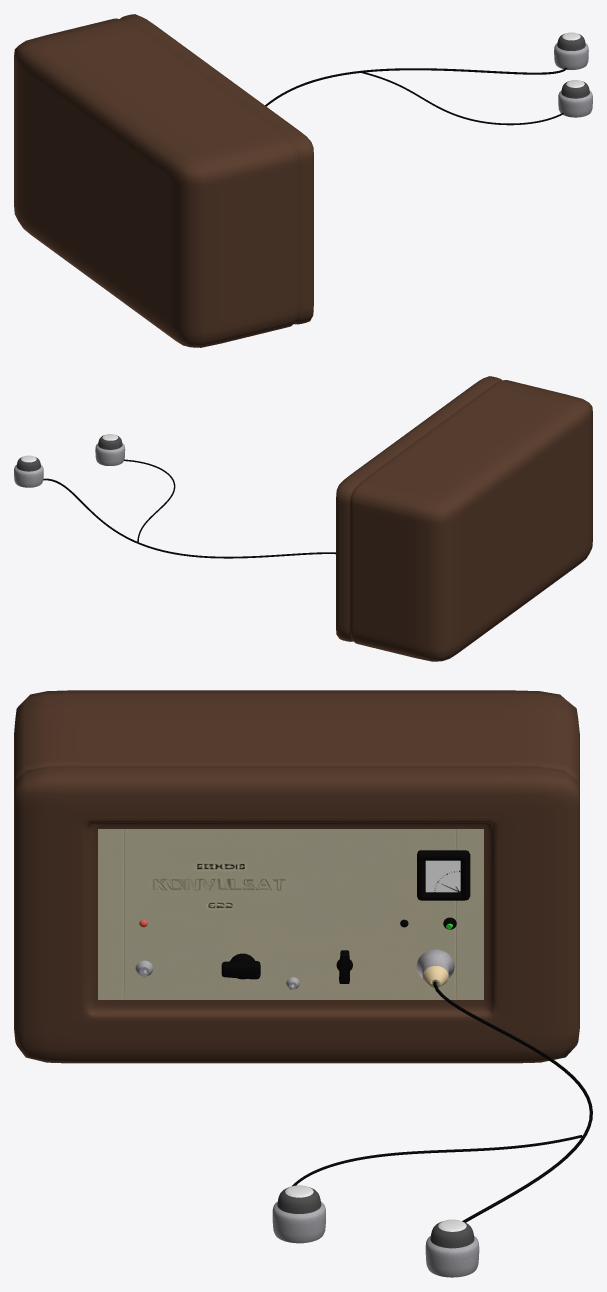
The model's file is elettroshock.fbx.
3 views of the same model, one above another, from view 1: azimuth 30°, elevation 25°; view 2: azimuth 150°, elevation 25°; view 3: azimuth 270°, elevation 25° (orthographic). The views are drawn at different scales.
Visible parts, largest first — view 1: Scatola, Cavo1, E3, E5, Cavo2; view 2: Scatola, Cavo1, E5, E3; view 3: Scatola, Davanti, Quadratino, E5, E3, Cavo1, Orologio, Cavo2, E1, E4.001.
Part boxes in pixels (x1,y1,x2,y2): Scatola: (14,14,313,347); Cavo1: (265,67,567,106); E3: (558,90,592,117); E5: (554,43,588,69); Cavo2: (359,71,563,125); Scatola: (336,376,592,661); Cavo1: (43,478,335,558); E5: (14,464,43,487); E3: (95,443,125,465); Scatola: (14,690,579,1063); Davanti: (98,829,483,999); Quadratino: (417,850,470,900); E5: (425,1236,479,1277); E3: (272,1201,325,1243); Cavo1: (433,981,592,1222); Orologio: (425,860,460,892); Cavo2: (292,1135,582,1186); E1: (430,1221,474,1248); E4.001: (277,1187,321,1213).
Size of the model in its own units: 121 by 39.94 by 72.91.
Materials: 19 (5 with a texture image).
